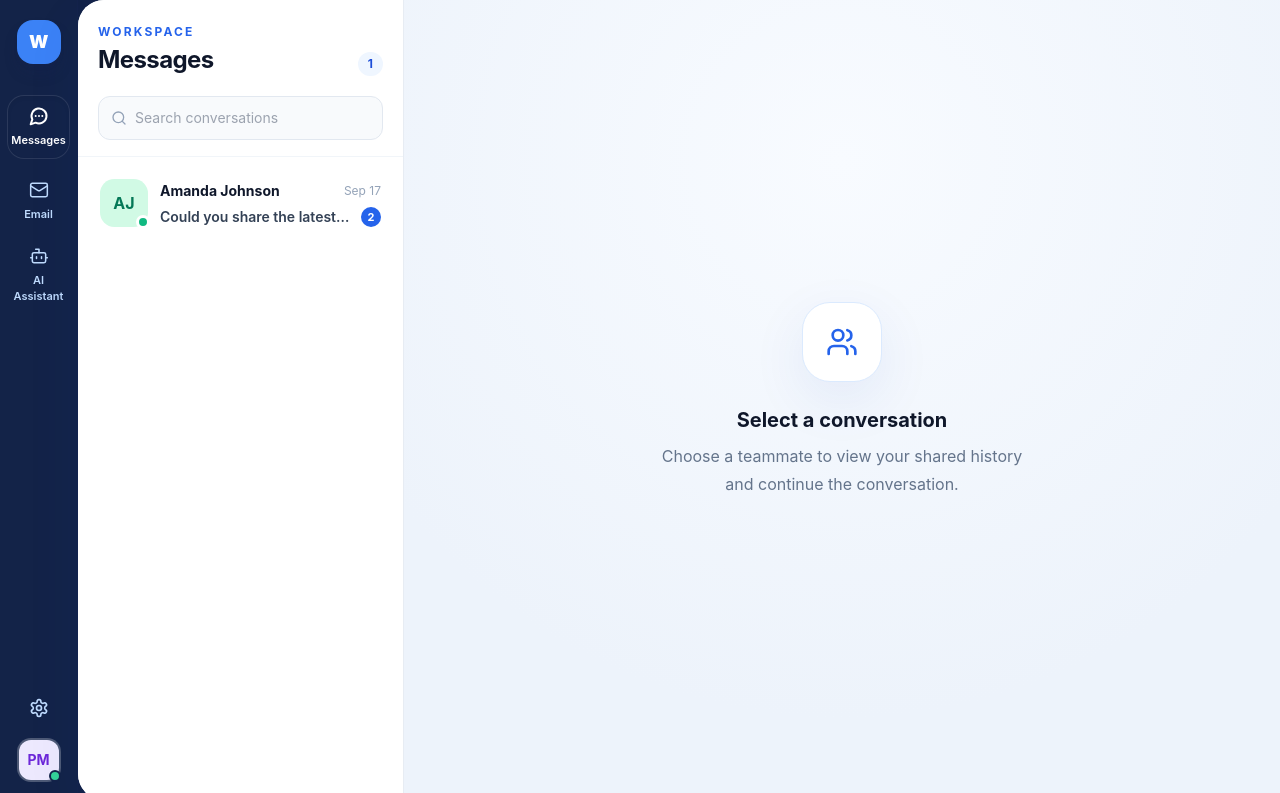
WorkHub › shows the skill name, arguments, and returned business data
The image size is (1280, 793).
Step 1. Click the button "AI Assistant" → (38, 275), box [8, 244, 69, 306]
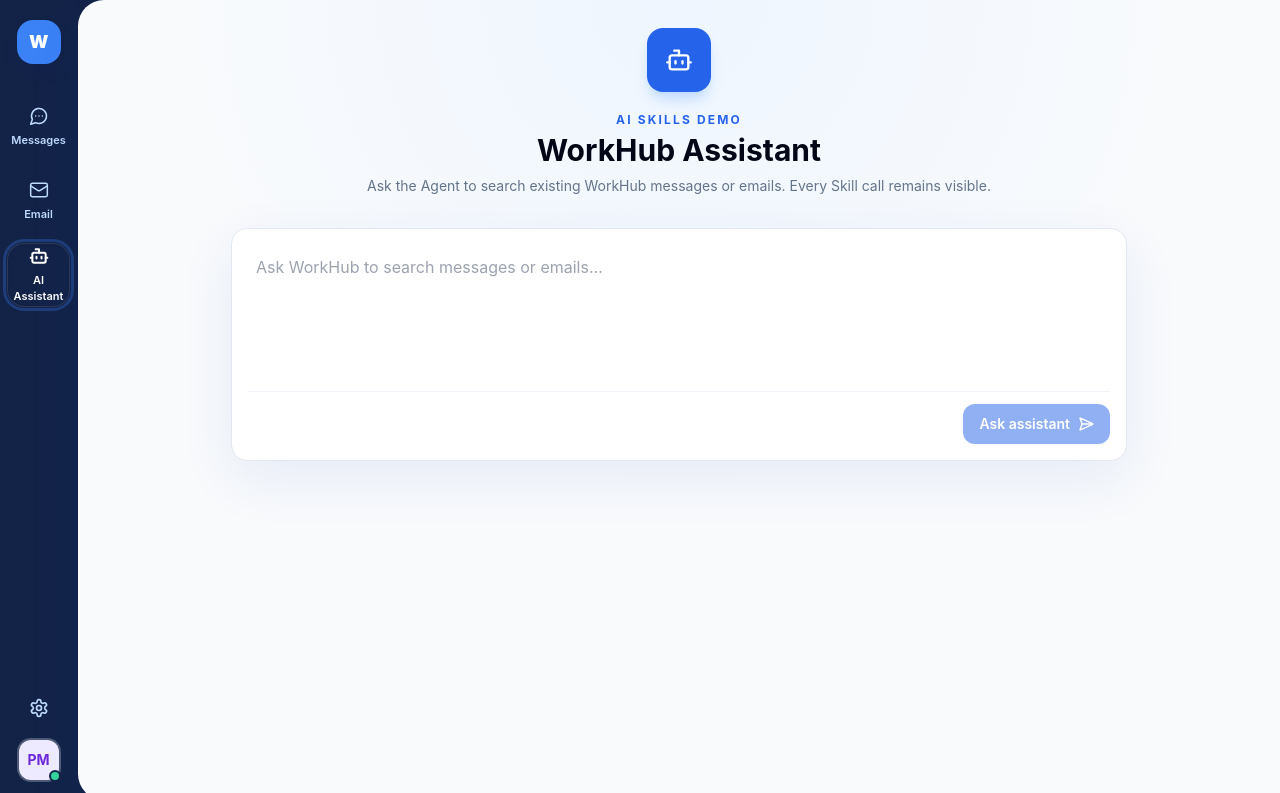
Step 2. Type "Find chat messages about acceptance criteria." into the text box with placeholder "Ask WorkHub to search messages or emails…" → (679, 309), box [248, 245, 1110, 373]
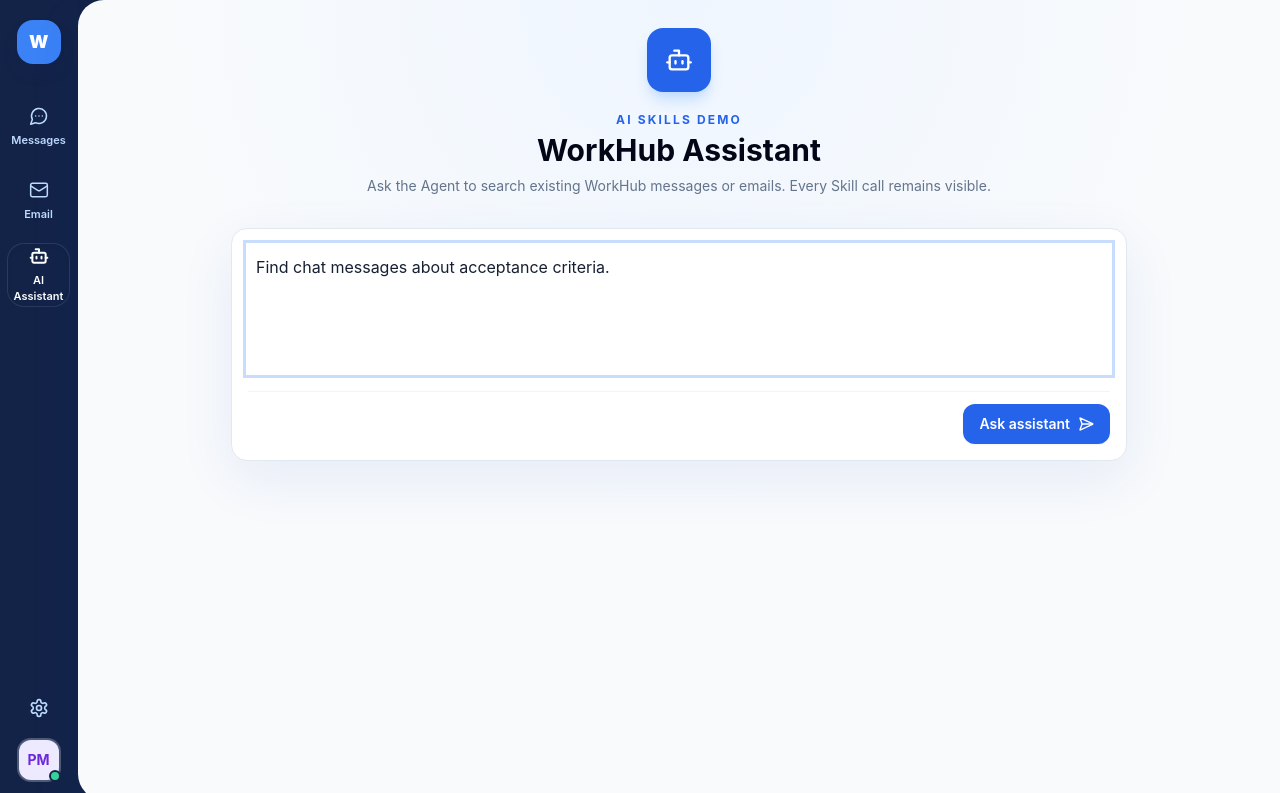
Step 3. Click the button "Ask assistant" → (1037, 424), box [963, 404, 1110, 444]
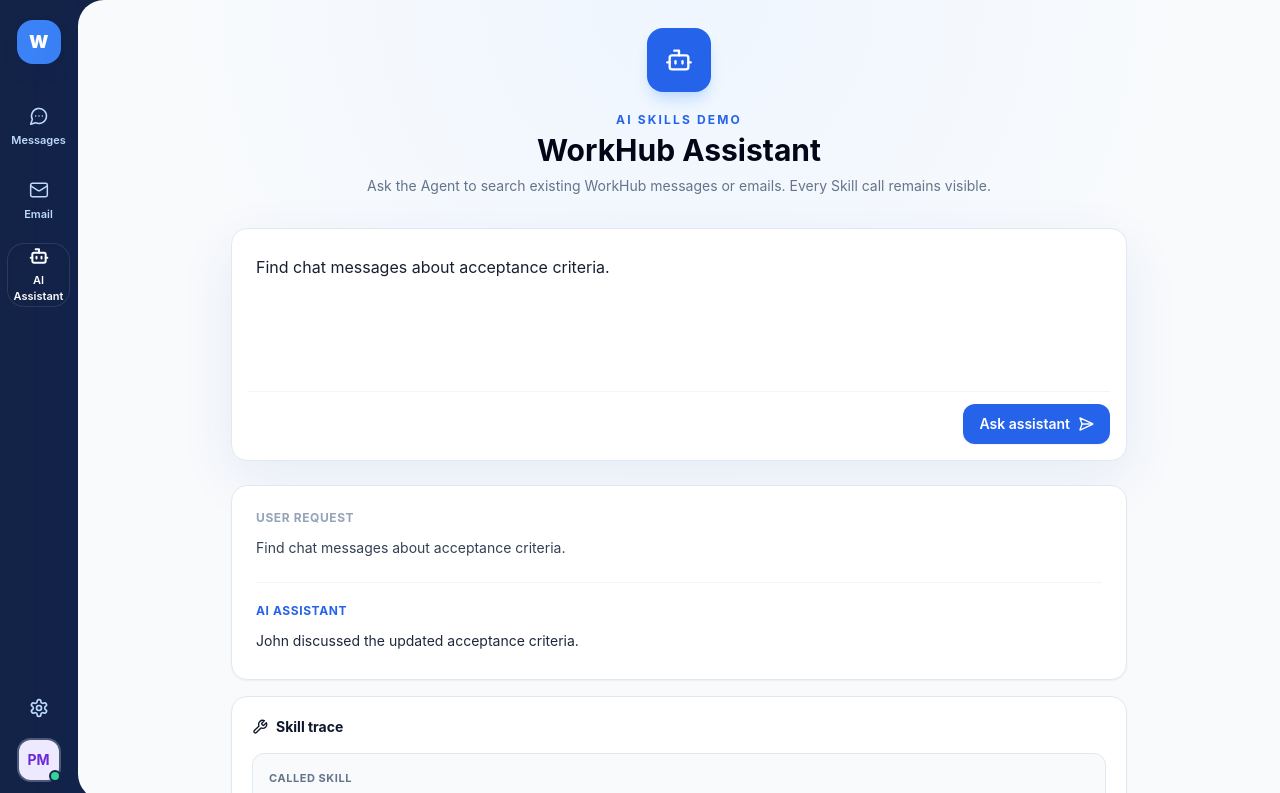
Expected: the text "User Request" is shown, [256, 510, 354, 525]
Expected: the text "Called Skill" is shown, [269, 771, 352, 785]
Expected: the text "John discussed the updated acceptance criteria." is shown, [256, 632, 579, 649]
